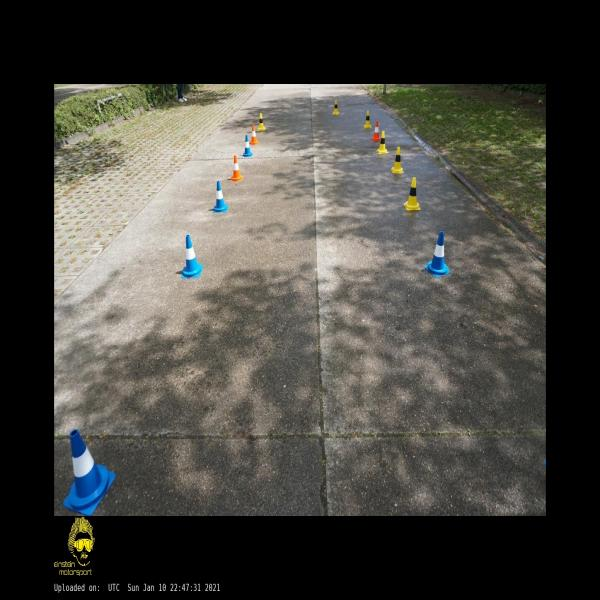blue_cone: (64, 429, 116, 515), (425, 232, 450, 277), (180, 236, 203, 278), (212, 180, 228, 212), (243, 136, 252, 157)
orange_cone: (229, 155, 243, 182), (372, 120, 381, 142), (249, 123, 258, 144)
yellow_cone: (404, 176, 420, 210), (390, 146, 404, 174), (376, 130, 388, 154), (256, 112, 266, 131), (363, 110, 372, 128), (333, 98, 339, 114)
